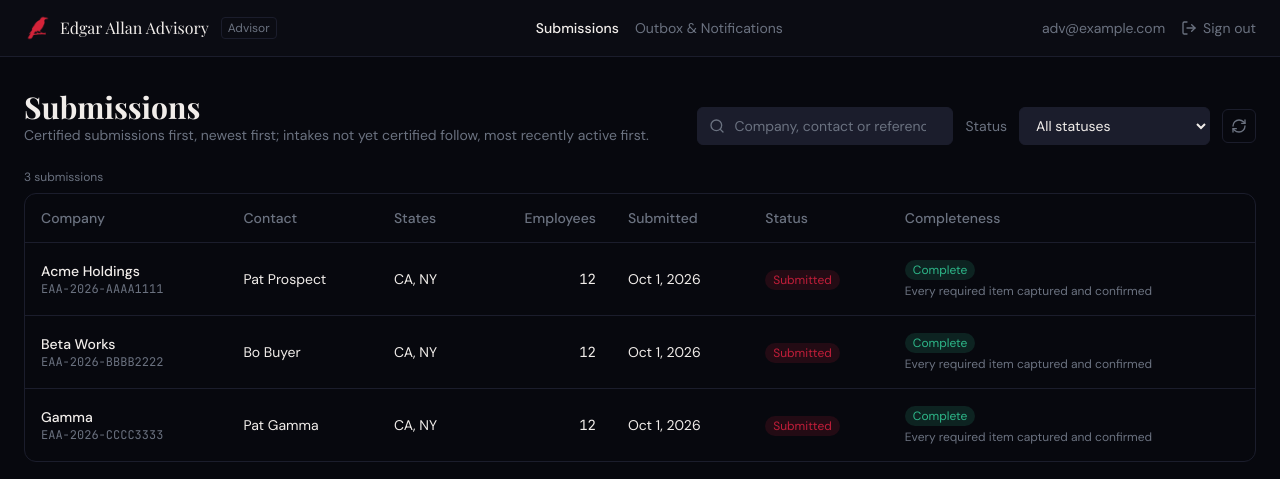
Test: AdvisorDashboardPage › search › says how many match
Expected: the link "Acme Holdings" is shown, [41, 262, 140, 280]
Expected: the text "3 submissions" is shown, [24, 169, 103, 185]
Type "pat" into the search field named "Search". click: (825, 126)
box: [697, 107, 953, 145]
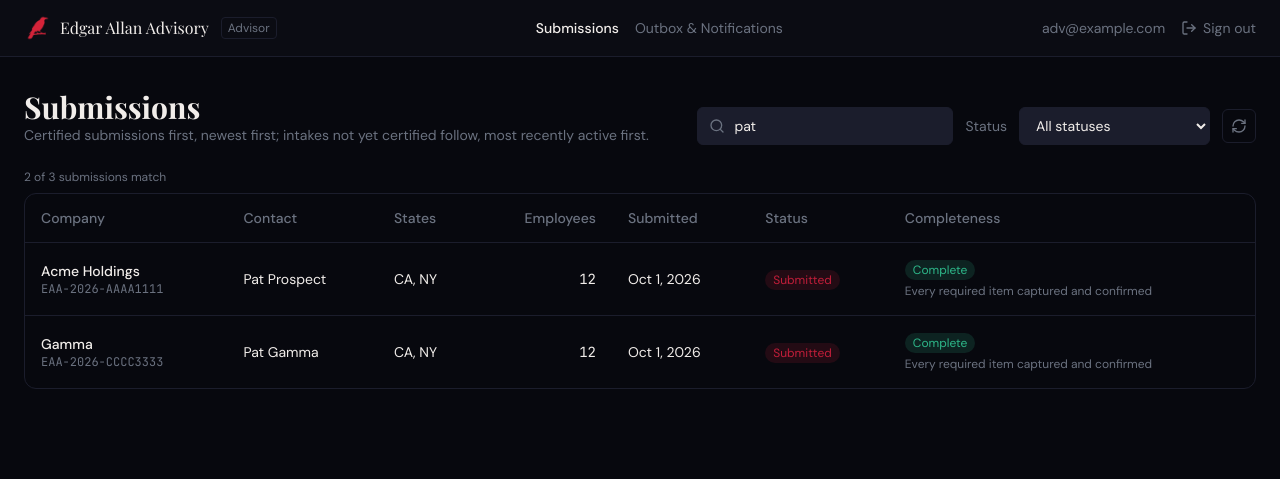
Now the text "2 of 3 submissions match" is shown, box [24, 169, 166, 185]
